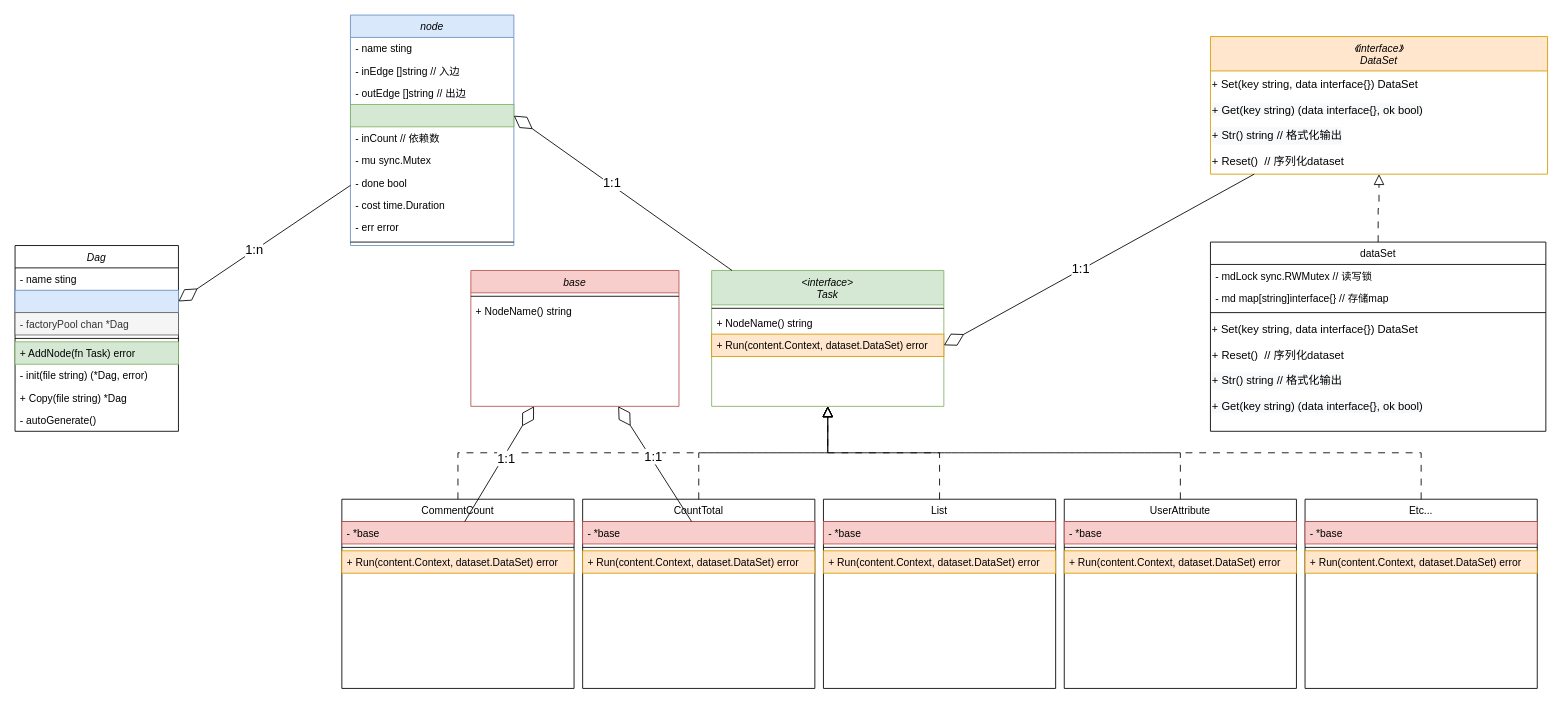
Image size: 1563x703. Some labels were removed from this diagram. Here are the shapes that lost their labels. From the top down, the centre of each, then its label:
At pixel 432 115: "- fn Task // 节点执行函数".
At pixel 96 301: "- nodeMap map[string]*node".
